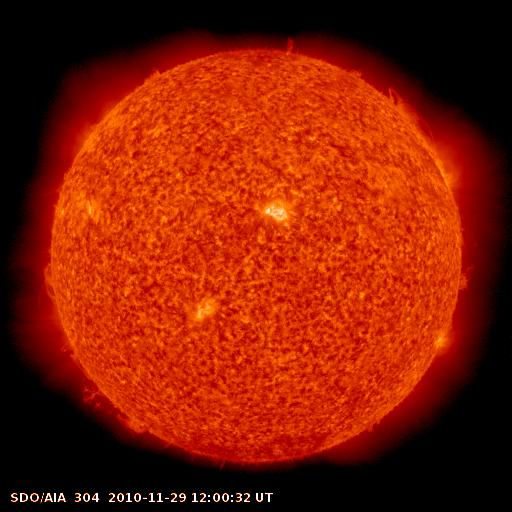prominence: (379, 71, 449, 153), (77, 378, 157, 439), (452, 228, 485, 307), (32, 248, 69, 309), (48, 327, 90, 373), (273, 23, 311, 61), (132, 55, 166, 94), (338, 53, 372, 86)
